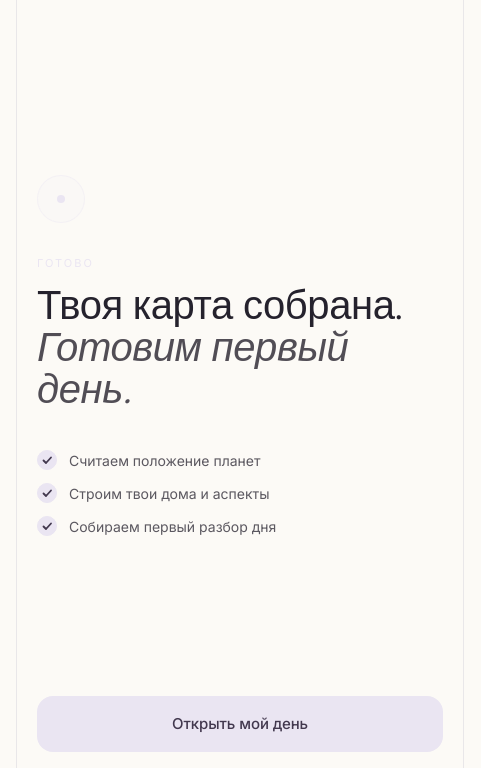
Scenario: OnboardingFlow save path › shows the backend error when profile save fails
Click the button "Открыть мой день" at (240, 724), box [37,696,443,752]
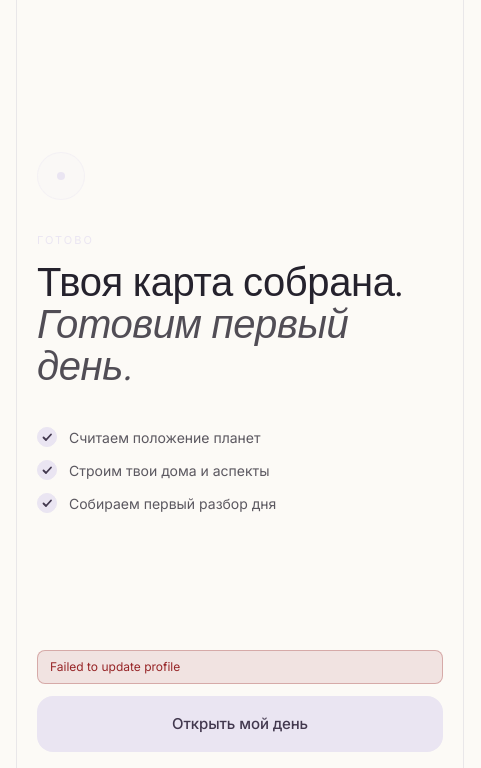
Now the text "Failed to update profile" is shown, box [37,650,443,684]
